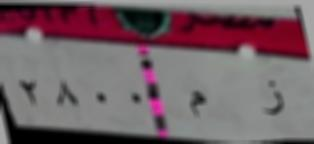0: (89, 85, 112, 109), (125, 87, 145, 113)
2: (17, 74, 43, 115)
8: (52, 75, 83, 112)
meem: (181, 83, 212, 124)
zay: (255, 76, 290, 122)
